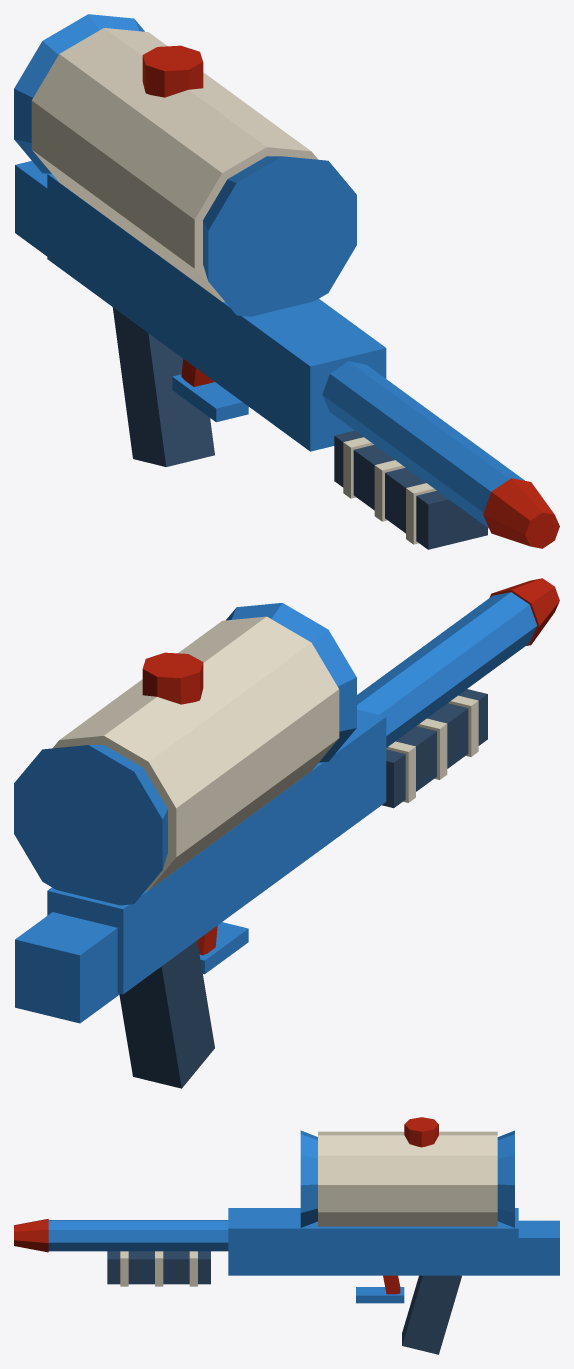
The model's file is water-gun.glb.
3 renders of one model, top to bottom at view 1: azimuth 30°, elevation 25°; view 2: azimuth 150°, elevation 25°; view 3: azimuth 270°, elevation 25°, orthographic. The views are drawn at different scales.
Visible parts, largest first — view 1: water-gun; view 2: water-gun; view 3: water-gun.
Part boxes in pixels (x1,y1,x2,y2): water-gun: (14,14,559,549); water-gun: (14,578,559,1088); water-gun: (14,1117,559,1354).
Bounding box in the file's own units: 0.137 × 0.3574 × 0.79.
Materials: 1 (1 with a texture image).
